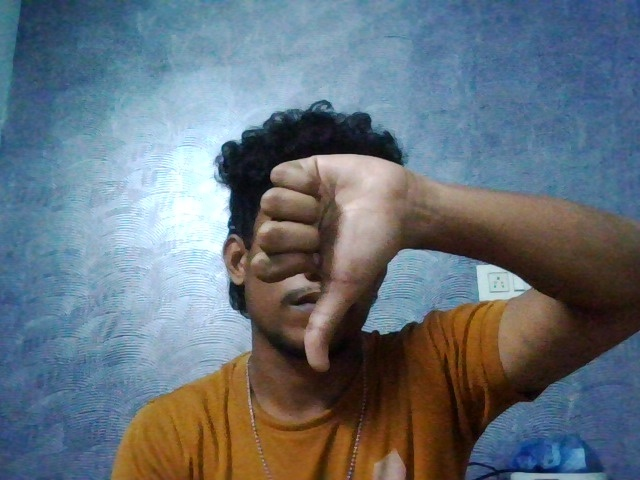no: (233, 141, 418, 389)
